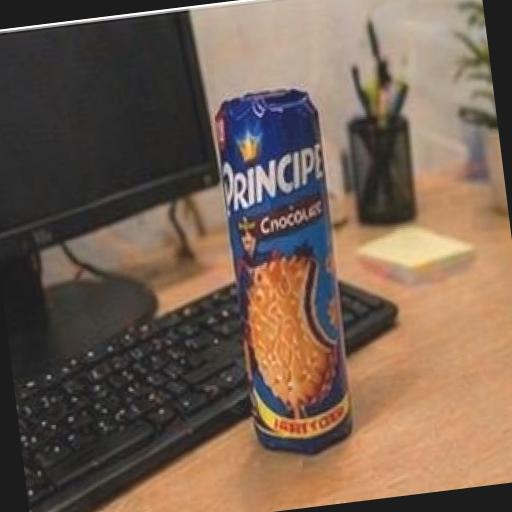prince: (138, 36, 436, 504)
